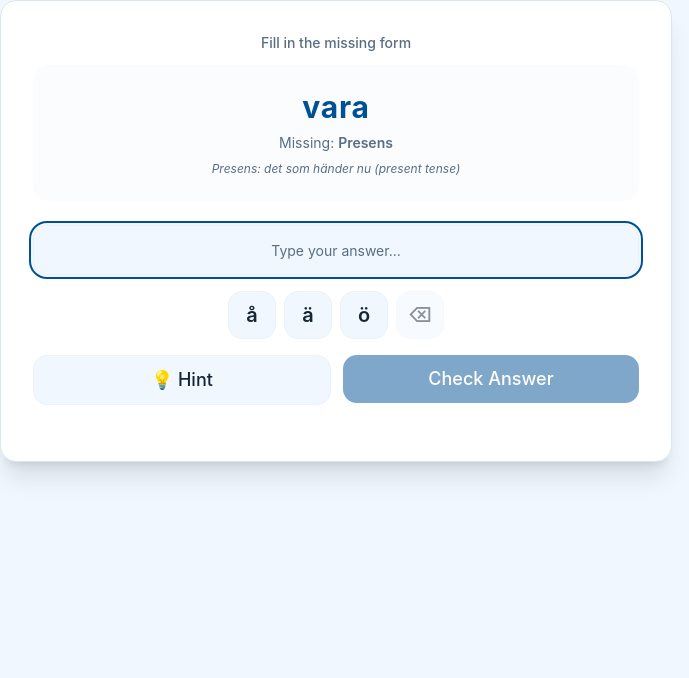
Test: PracticeCard - typing mode › marks a wrong answer incorrect and reveals the correct answer
Type "totallywrong" into the field with placeholder "Type your answer...".
click(336, 250); type("totallywrong")  # box [33,225,639,275]
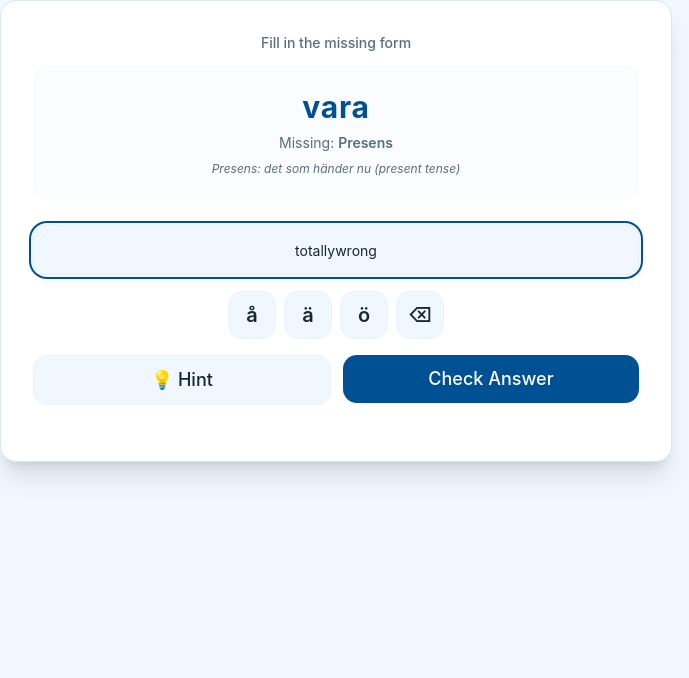
Click the button "Check Answer".
click(491, 379)  # box [343,355,639,403]
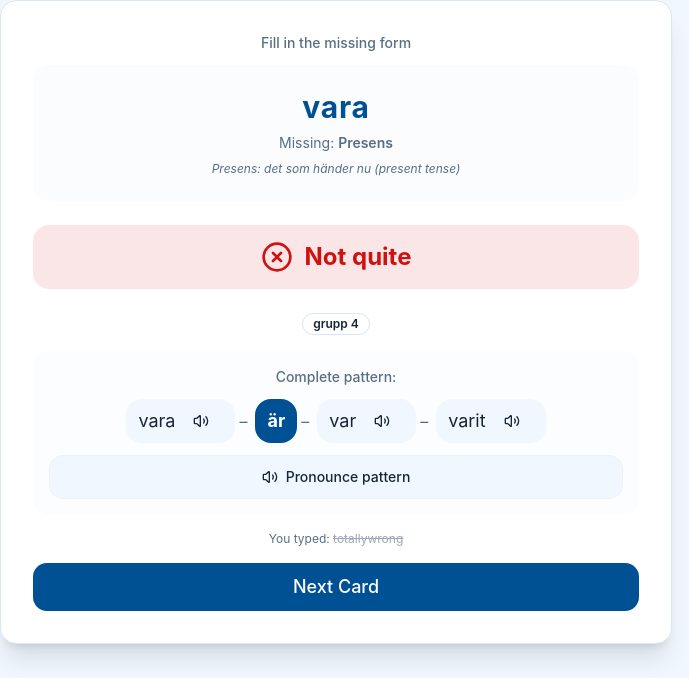
Now the text "Not quite" is shown, box [304,241,411,273]
Now the text "Complete pattern:" shows "är", box [268,410,285,431]
